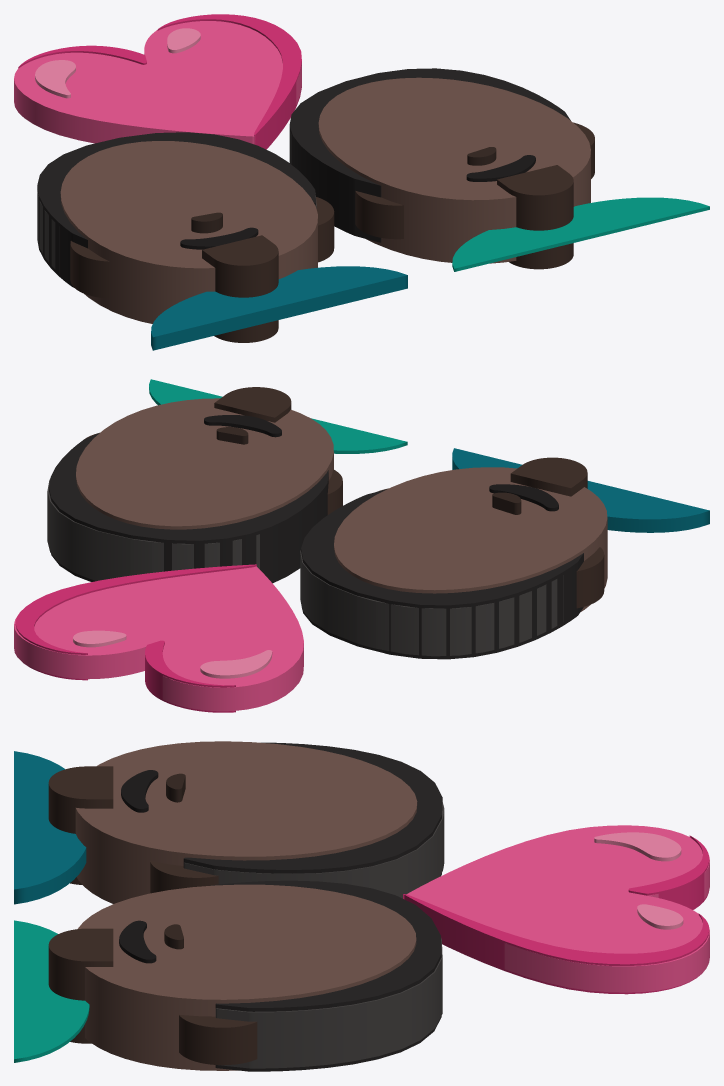
Rendered from emoji_u1f468_1f3ff_200d_2764_200d_1f468_1f3ff.glb.
3 views of the same model, one above another, from view 1: azimuth 30°, elevation 25°; view 2: azimuth 150°, elevation 25°; view 3: azimuth 270°, elevation 25° (orthographic). The views are drawn at different scales.
Parts seen in each view (by area): view 1: emoji_u1f468_1f3ff_200d_2764_200d_1f468_1f3ff; view 2: emoji_u1f468_1f3ff_200d_2764_200d_1f468_1f3ff; view 3: emoji_u1f468_1f3ff_200d_2764_200d_1f468_1f3ff.
Boxes of the visible parts, bbox=[...] form: emoji_u1f468_1f3ff_200d_2764_200d_1f468_1f3ff: bbox=[14, 14, 709, 350]; emoji_u1f468_1f3ff_200d_2764_200d_1f468_1f3ff: bbox=[14, 379, 709, 712]; emoji_u1f468_1f3ff_200d_2764_200d_1f468_1f3ff: bbox=[14, 741, 709, 1071].
Size of the model in its own units: 0.0347 by 0.005 by 0.0337.
